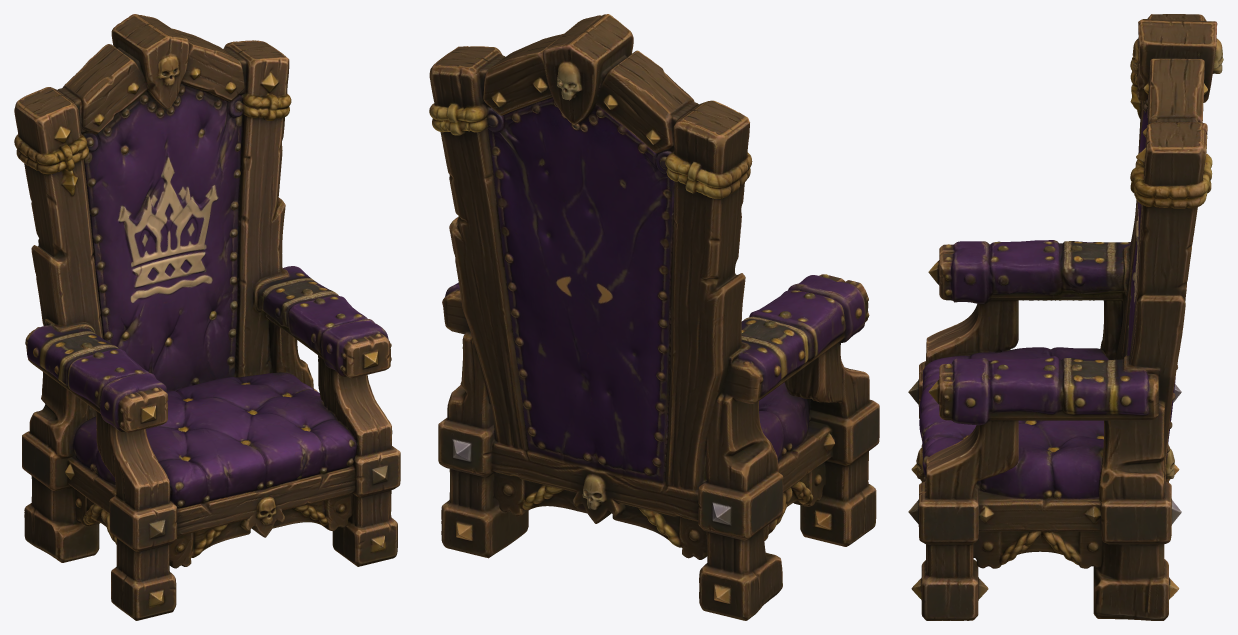
The model's file is chair_2.glb.
The picture shows the model from 3 angles, left to right: view 1: azimuth 30°, elevation 25°; view 2: azimuth 150°, elevation 25°; view 3: azimuth 270°, elevation 25°; orthographic projection. The views are drawn at different scales.
Size of the model in its own units: 1.16 by 1.9 by 1.02.
Materials: 1 (1 with a texture image).
